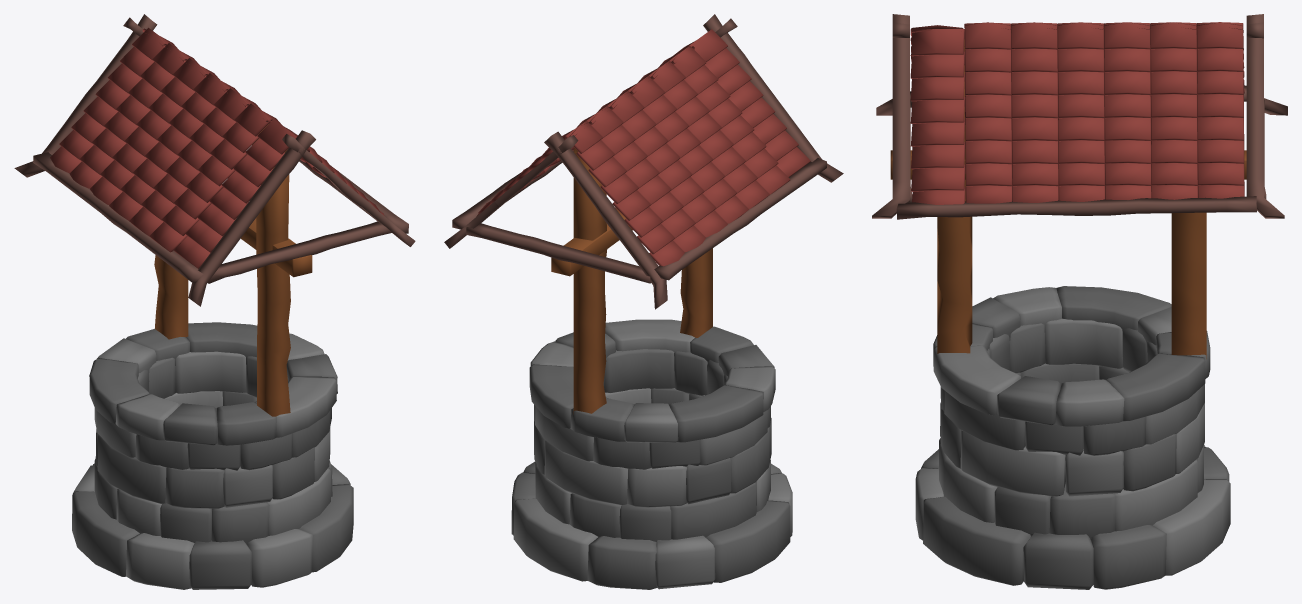
Rendered from sumur.glb.
3 renders of one model, left to right at view 1: azimuth 30°, elevation 25°; view 2: azimuth 150°, elevation 25°; view 3: azimuth 270°, elevation 25°, orthographic. The views are drawn at different scales.
Parts seen in each view (by area): view 1: Cube.001; view 2: Cube.001; view 3: Cube.001.
Part boxes in pixels (box(x1,y1,x2,y2)): Cube.001: box(14, 14, 415, 589); Cube.001: box(444, 14, 843, 589); Cube.001: box(872, 14, 1287, 589).
Size of the model in its own units: 0.72 by 1.28 by 0.9437.
